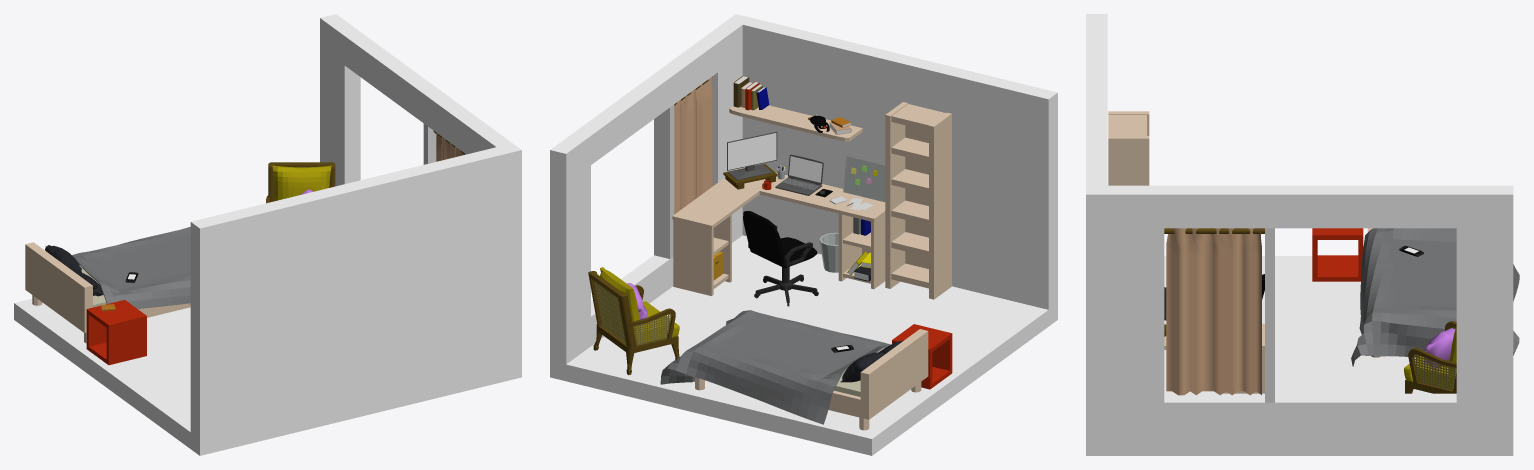
The model's file is myroom.glb.
3 renders of one model, left to right at view 1: azimuth 30°, elevation 25°; view 2: azimuth 150°, elevation 25°; view 3: azimuth 270°, elevation 25°, orthographic. The views are drawn at different scales.
Parts seen in each view (by area): view 1: wall, Plane, sommier, bedTable, cushion, dossier; view 2: wall, Plane, grandMeuble, desk, sommier, curtain, woodBar, chairSeat, screen, bookShelf, bedTable, board (+10 smaller); view 3: wall, curtain, Plane, grandMeuble, bedTable, woodBar, grilleL, dittoPlush, armL.001, seat, curtainBar.
Boxes of the visible parts, x1,y1,x2,y2 form: wall: (14, 14, 521, 455); Plane: (72, 227, 190, 308); sommier: (25, 242, 190, 332); bedTable: (86, 300, 146, 365); cushion: (272, 165, 331, 201); dossier: (268, 162, 335, 202); wall: (550, 14, 1057, 455); Plane: (660, 310, 890, 424); grandMeuble: (885, 102, 951, 299); desk: (672, 167, 885, 295); sommier: (687, 329, 928, 419); curtain: (674, 77, 712, 214); woodBar: (654, 104, 674, 258); chairSeat: (743, 211, 817, 268); screen: (727, 131, 777, 180); bookShelf: (729, 105, 862, 141); bedTable: (892, 324, 952, 389); board: (843, 156, 885, 202); wall: (1086, 14, 1513, 455); curtain: (1166, 228, 1261, 395); Plane: (1351, 228, 1519, 366); grandMeuble: (1108, 111, 1149, 185); bedTable: (1312, 228, 1363, 281); woodBar: (1265, 228, 1274, 402); grilleL: (1413, 354, 1456, 390); dittoPlush: (1425, 328, 1454, 368); armL.001: (1408, 348, 1456, 382); seat: (1404, 356, 1455, 388); curtainBar: (1164, 228, 1264, 233).
Bounding box in the file's own units: 8 × 5.4 × 8.12.
Materials: 28 (1 with a texture image).
